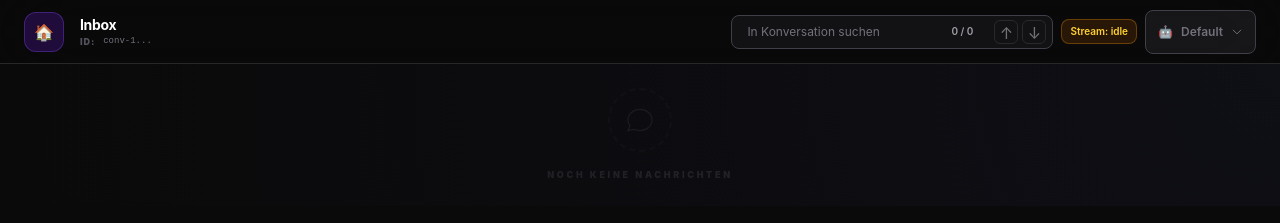
Test: ChatMainPane persona filtering › excludes the Master system persona from the normal persona dropdown
Click the button with test id "persona-dropdown-toggle".
click(1200, 32)  # box [1145,10,1256,54]
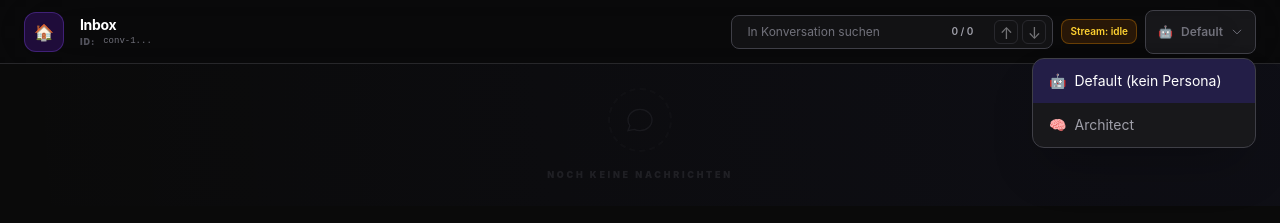
expect the button "🧠 Architect" is shown: met, box [1033,102,1255,146]
